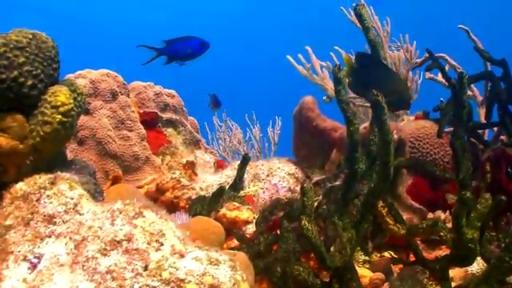Fish: (137, 36, 210, 65), (208, 93, 222, 111)
